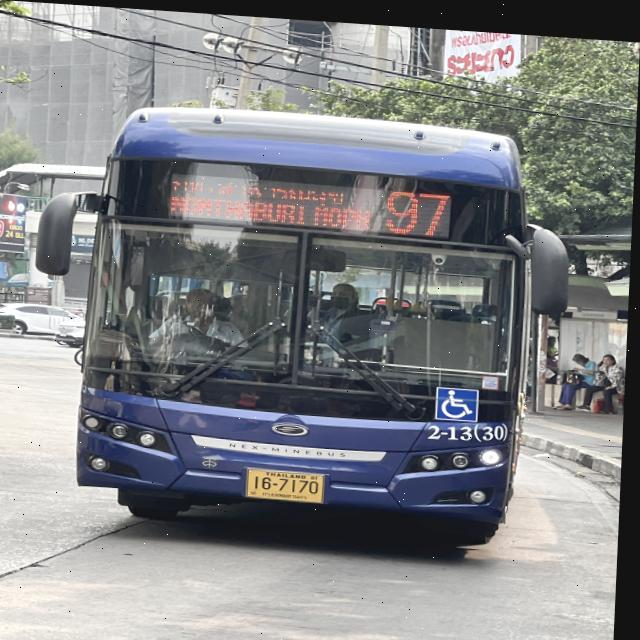Bus-Line-Number: (381, 180, 459, 234)
Destination-Sign-Normal: (164, 168, 379, 229)
TSB-Bus: (26, 94, 575, 543)
